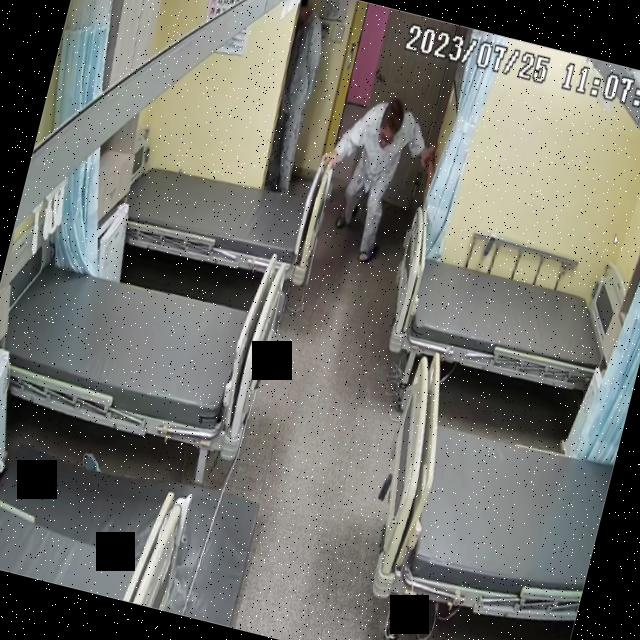bed: (356, 348, 630, 639), (0, 243, 279, 455), (377, 231, 633, 403), (118, 144, 326, 285)
danger: (302, 86, 444, 270)
patient: (303, 85, 443, 266), (252, 0, 339, 194)
stand: (253, 0, 339, 193)
